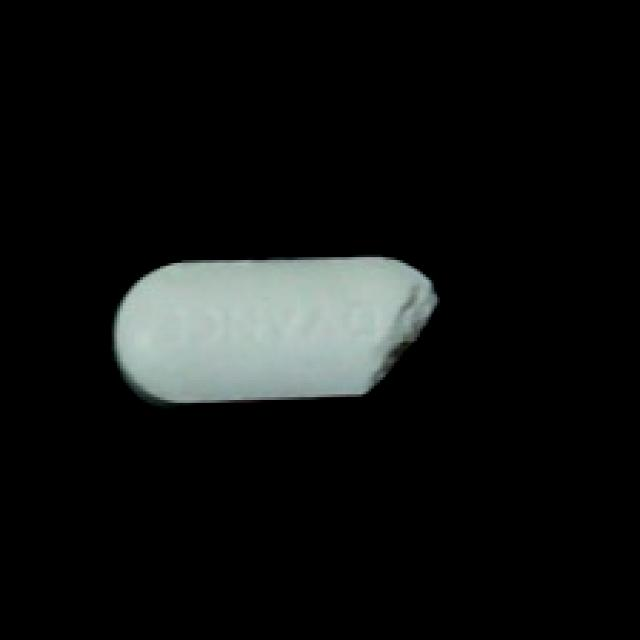defected: (106, 254, 446, 420)
